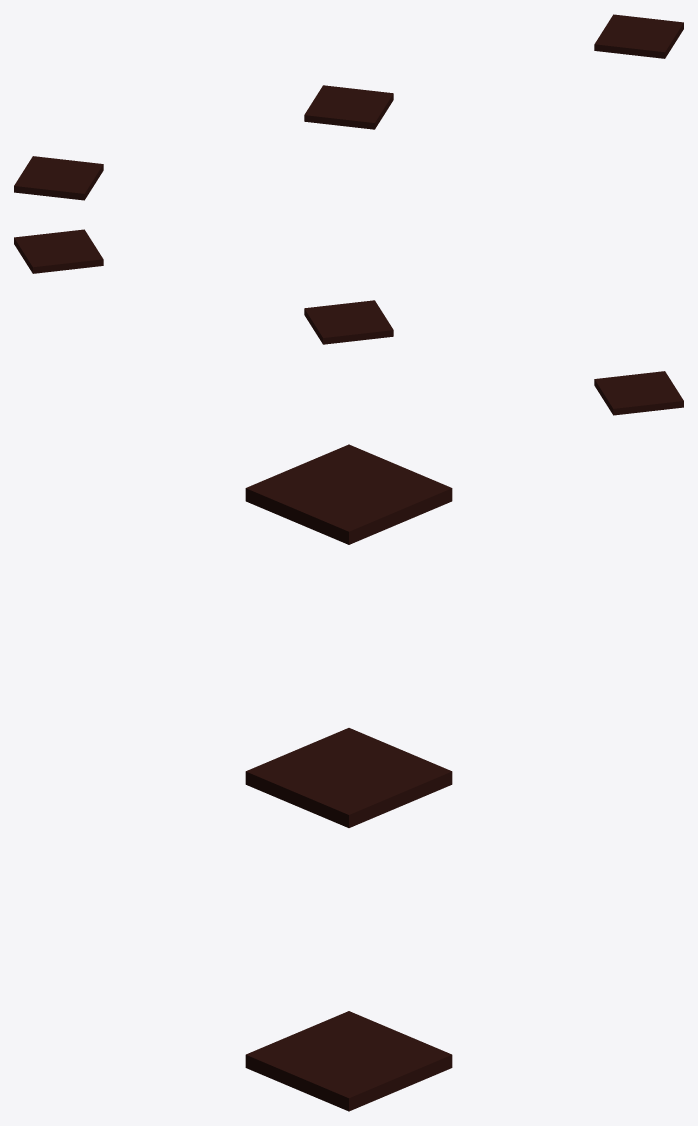
Rendered from rec_c_lights.fbx.
3 renders of one model, top to bottom at view 1: azimuth 30°, elevation 25°; view 2: azimuth 150°, elevation 25°; view 3: azimuth 270°, elevation 25°, orthographic. The views are drawn at different scales.
Visible parts, largest first — view 1: rec_light, rec_light2, rec_light1; view 2: rec_light, rec_light2, rec_light1; view 3: rec_light1, rec_light, rec_light2.
Part boxes in pixels (x1,y1,x2,y2): rec_light: [594, 14, 683, 58]; rec_light2: [14, 156, 103, 200]; rec_light1: [304, 85, 393, 129]; rec_light: [14, 229, 103, 273]; rec_light2: [594, 371, 683, 415]; rec_light1: [304, 300, 393, 344]; rec_light1: [245, 728, 452, 827]; rec_light: [245, 1011, 452, 1111]; rec_light2: [245, 444, 452, 544].
Bounding box in the file's own units: 529 × 5 × 70.71.
